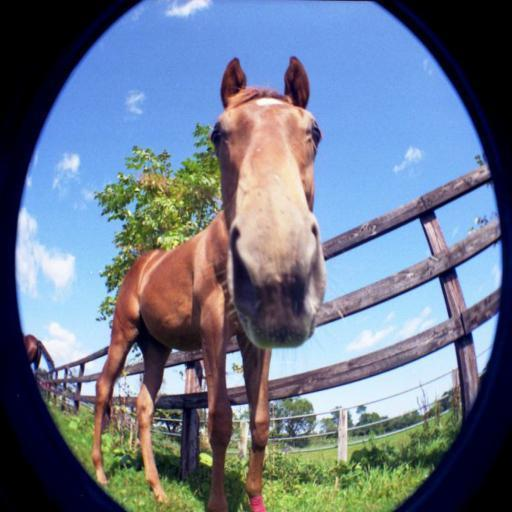horse: (91, 56, 324, 511), (21, 331, 60, 379)
